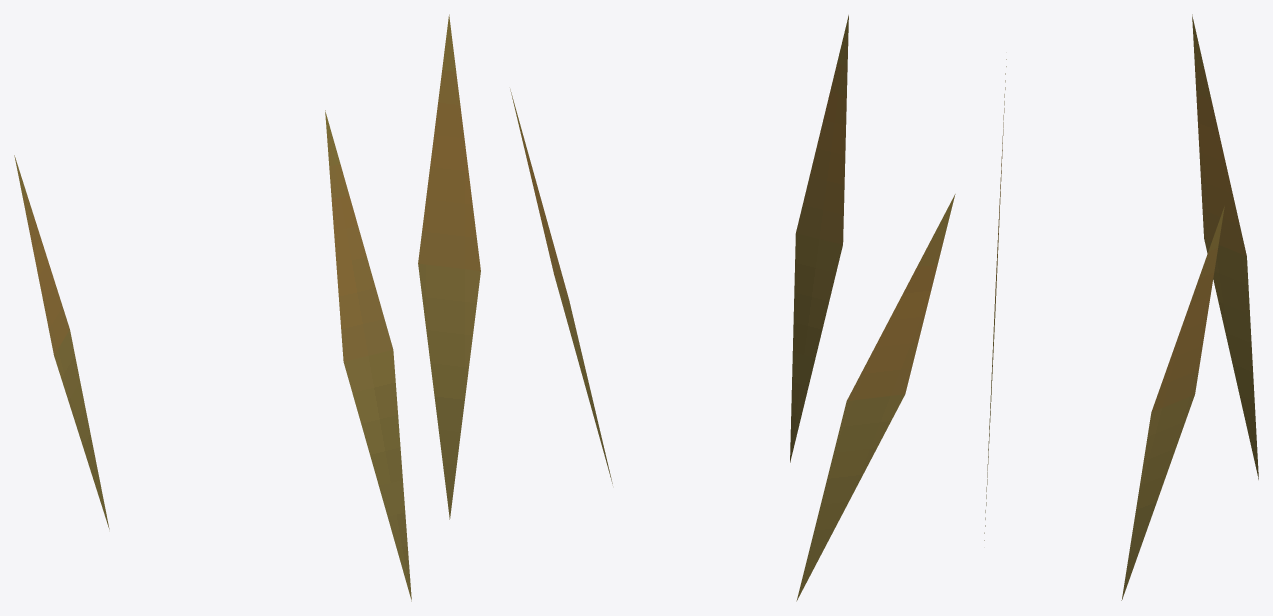
File: plants_me_main_grass61.gltf
The picture shows the model from 3 angles, left to right: view 1: azimuth 30°, elevation 25°; view 2: azimuth 150°, elevation 25°; view 3: azimuth 270°, elevation 25°; orthographic projection. The views are drawn at different scales.
Visible parts, largest first — view 1: plants_me_main_grass61; view 2: plants_me_main_grass61; view 3: plants_me_main_grass61.
Part boxes in pixels (x1,y1,x2,y2): plants_me_main_grass61: (14, 14, 480, 601); plants_me_main_grass61: (510, 15, 955, 601); plants_me_main_grass61: (984, 14, 1258, 600).
Size of the model in its own units: 0.4252 by 0.45 by 0.24.
Materials: 1 (1 with a texture image).
